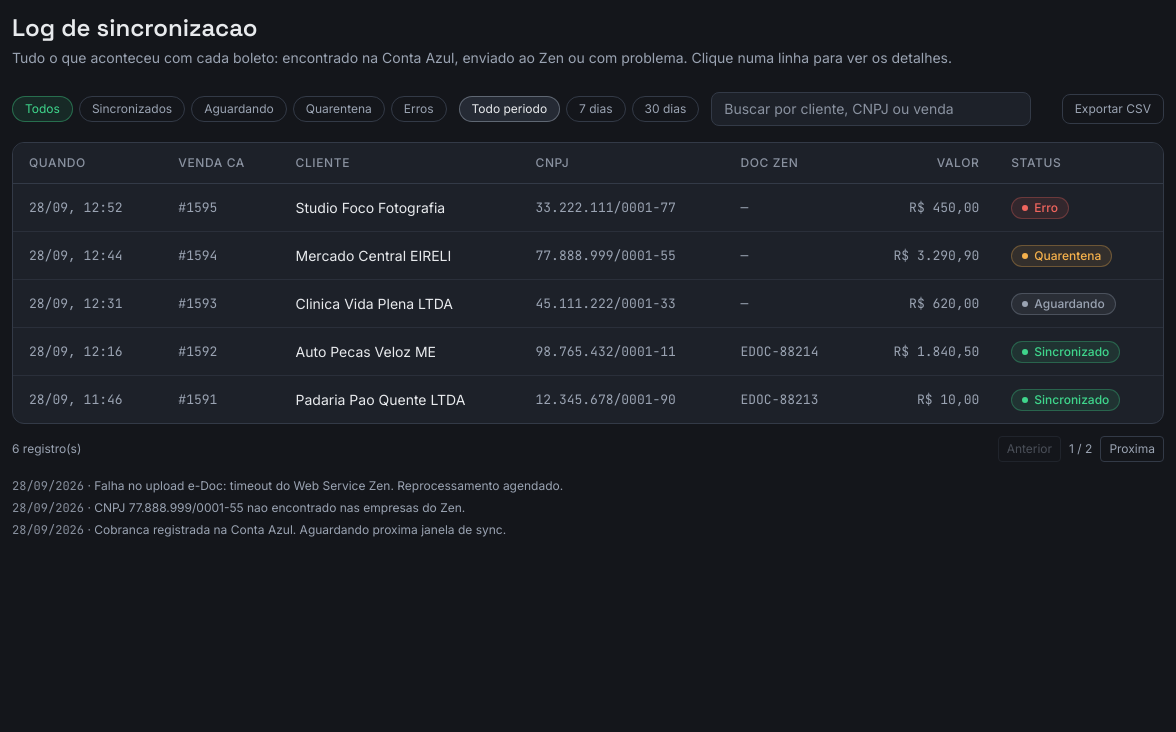
Scenario: SyncLog › busca por cliente
expect the text "Auto Pecas Veloz ME" is shown: met, box [280,328,520,376]
Type "clinica" into the field with placeholder "Buscar por cliente, CNPJ ou venda". click: coordinates (871, 109)
box: [711,92,1031,126]
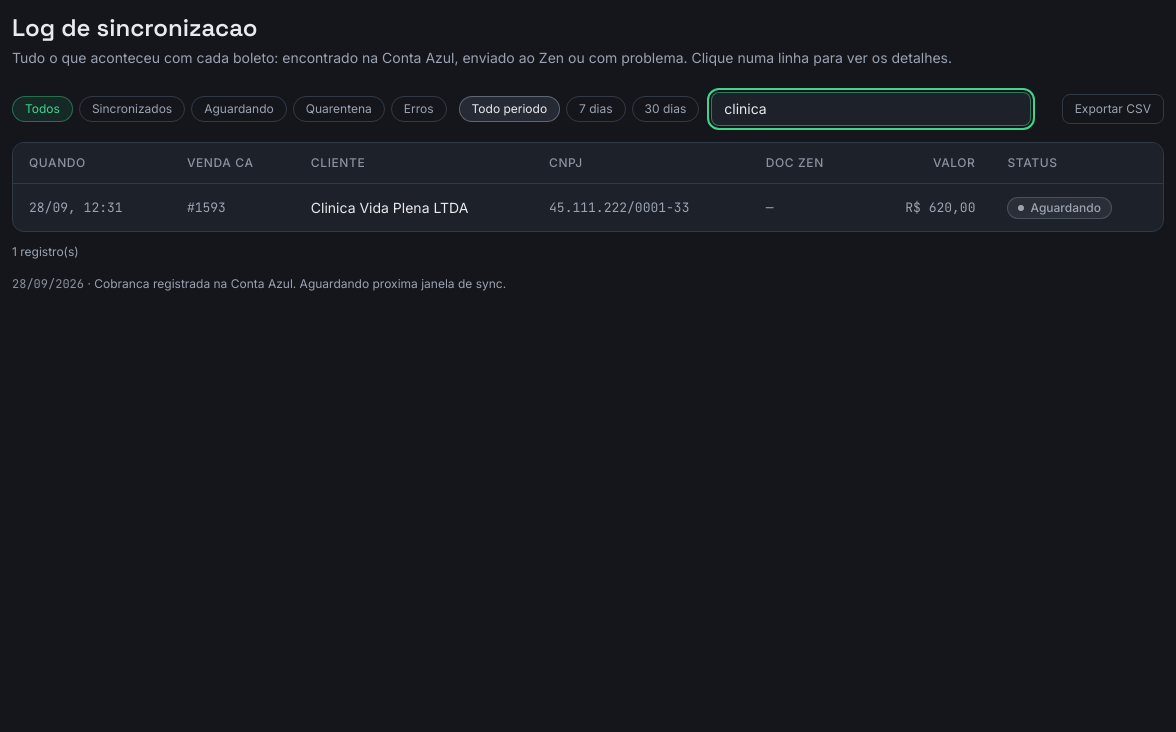
expect the text "Clinica Vida Plena LTDA" is shown: met, box [295,184,533,231]
expect the text "Auto Pecas Veloz" is gone: met
